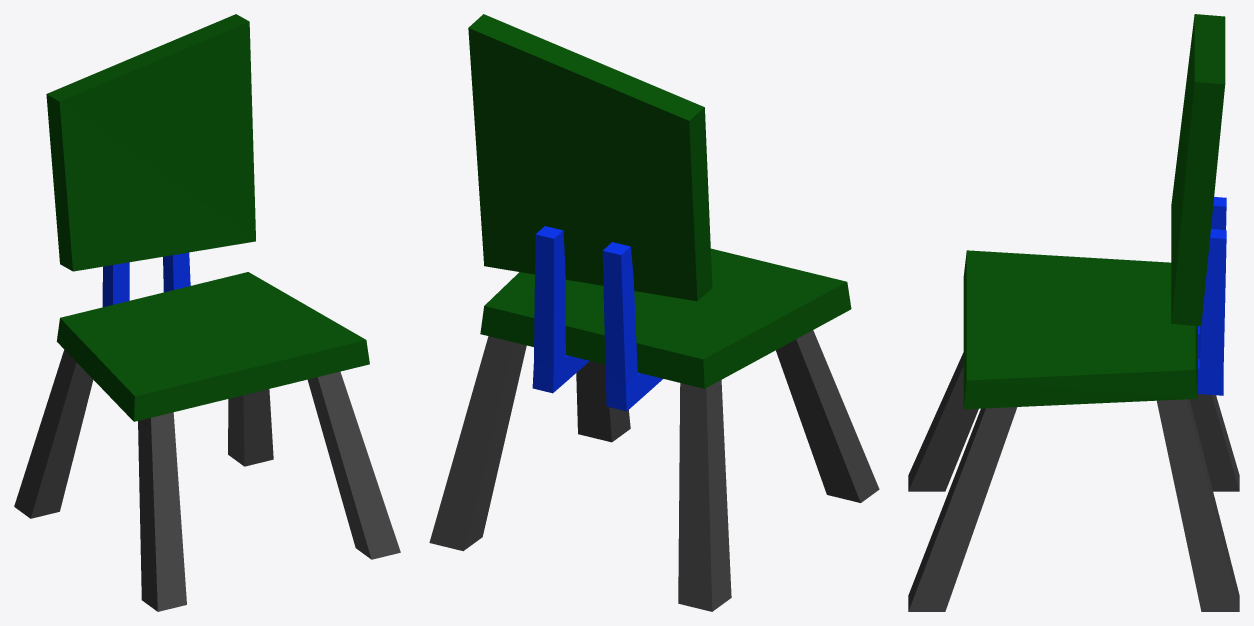
The model's file is KitchenChair_fixedNormals.FBX.
The picture shows the model from 3 angles, left to right: view 1: azimuth 30°, elevation 25°; view 2: azimuth 150°, elevation 25°; view 3: azimuth 270°, elevation 25°; orthographic projection. The views are drawn at different scales.
Parts seen in each view (by area): view 1: Projectile_Small_Kitchen_Chair00; view 2: Projectile_Small_Kitchen_Chair00; view 3: Projectile_Small_Kitchen_Chair00.
Part boxes in pixels (x1,y1,x2,y2): Projectile_Small_Kitchen_Chair00: (14, 14, 400, 611); Projectile_Small_Kitchen_Chair00: (429, 14, 879, 611); Projectile_Small_Kitchen_Chair00: (908, 14, 1239, 611).
Bounding box in the file's own units: 117 × 206 × 120.
